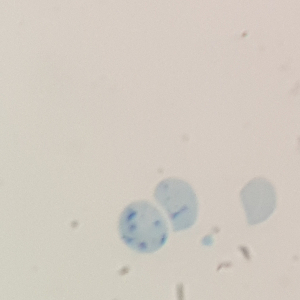aggregate reticulocyte: (116, 199, 170, 255)
erythrocyte: (238, 174, 279, 228)
punctate reticulocyte: (152, 176, 201, 234)
